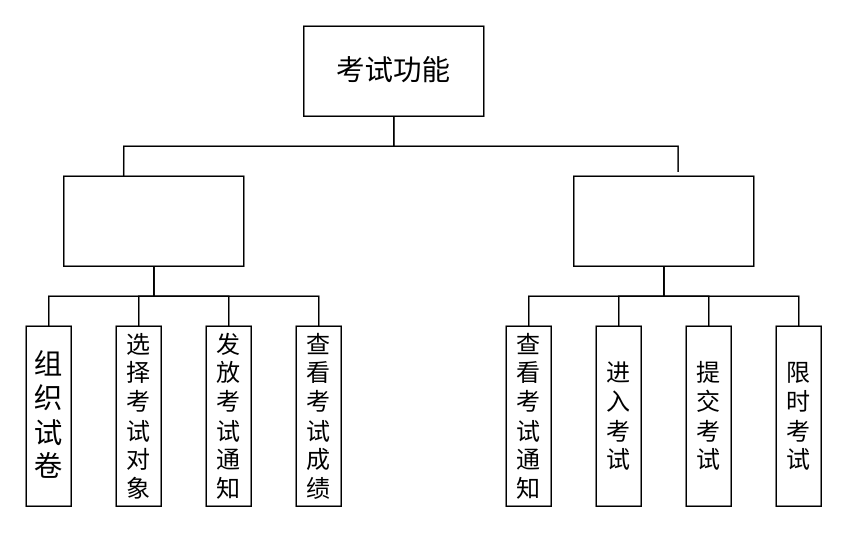
This 848x533 diagram has some shape labels left out. The box of each missing label's shape, as (x1, y1, x2, y2) in pixels:
学生: (572, 175, 754, 266)
教师: (62, 175, 244, 266)
